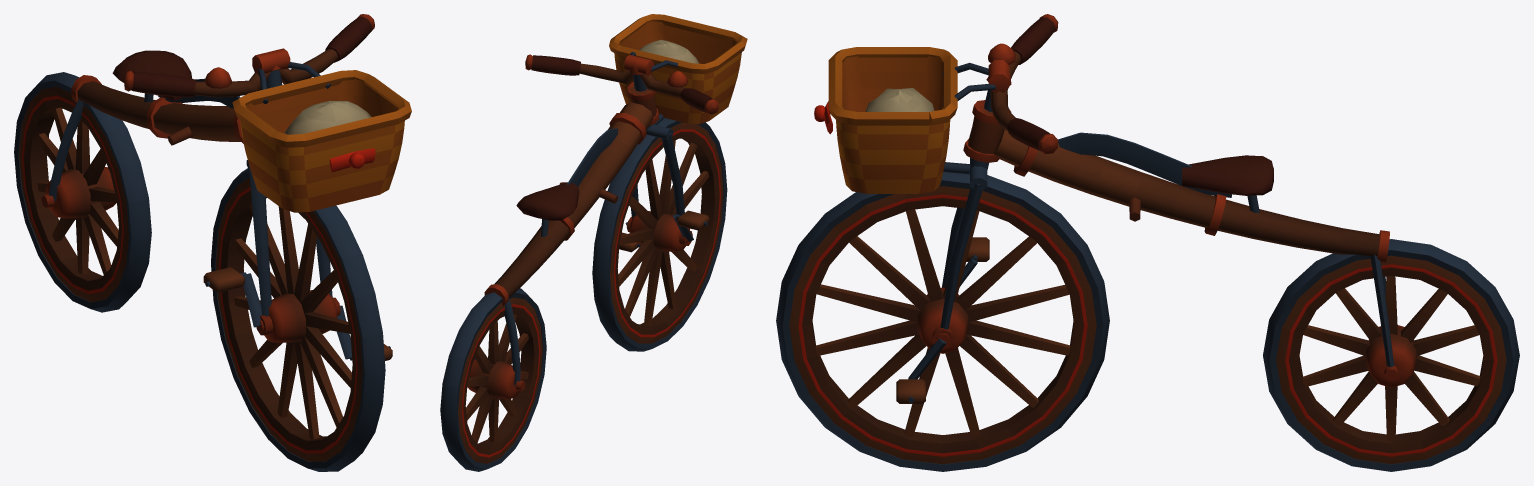
File: Bisiklet.fbx
3 views of the same model, side by side, from view 1: azimuth 30°, elevation 25°; view 2: azimuth 150°, elevation 25°; view 3: azimuth 270°, elevation 25° (orthographic). The views are drawn at different scales.
Visible parts, largest first — view 1: Bisiklet_On_Teker, Bisiklet_Gidon, Bisiklet_Arka_Teker, SM_Bisiklet_Govde, Bisiklet_Pedal_Sol; view 2: Bisiklet_On_Teker, Bisiklet_Gidon, Bisiklet_Arka_Teker, SM_Bisiklet_Govde, Bisiklet_Pedal_Sol; view 3: Bisiklet_On_Teker, Bisiklet_Arka_Teker, Bisiklet_Gidon, SM_Bisiklet_Govde.
Part boxes in pixels (bbox=[...]): Bisiklet_On_Teker: bbox=[211, 168, 385, 471]; Bisiklet_Gidon: bbox=[124, 14, 411, 332]; Bisiklet_Arka_Teker: bbox=[14, 72, 151, 312]; SM_Bisiklet_Govde: bbox=[41, 50, 243, 207]; Bisiklet_Pedal_Sol: bbox=[203, 267, 246, 292]; Bisiklet_On_Teker: bbox=[592, 118, 727, 351]; Bisiklet_Gidon: bbox=[525, 14, 747, 243]; Bisiklet_Arka_Teker: bbox=[440, 288, 546, 471]; SM_Bisiklet_Govde: bbox=[474, 82, 659, 390]; Bisiklet_Pedal_Sol: bbox=[676, 210, 709, 230]; Bisiklet_On_Teker: bbox=[776, 172, 1109, 471]; Bisiklet_Arka_Teker: bbox=[1263, 239, 1519, 471]; Bisiklet_Gidon: bbox=[814, 14, 1058, 346]; SM_Bisiklet_Govde: bbox=[963, 100, 1398, 380].
Bounding box in the file's own units: 0.7032 × 1.05 × 1.74.
